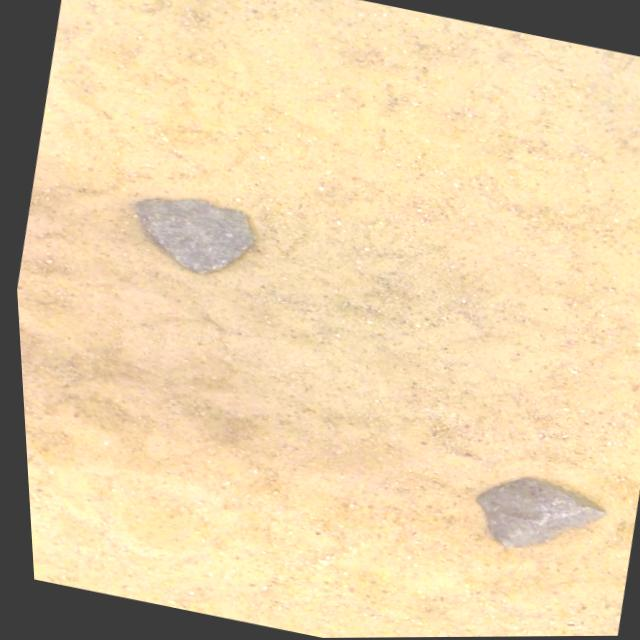rock: (471, 478, 600, 548), (134, 198, 251, 273)
